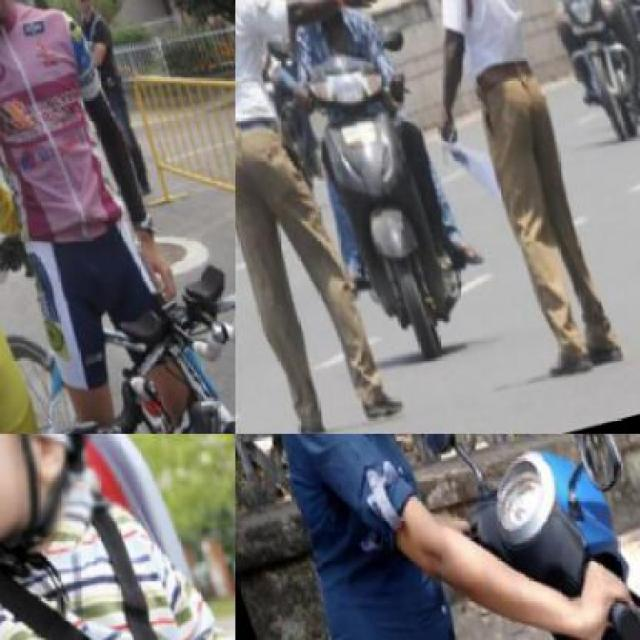With Helmet: (0, 434, 143, 569), (271, 0, 343, 20)
